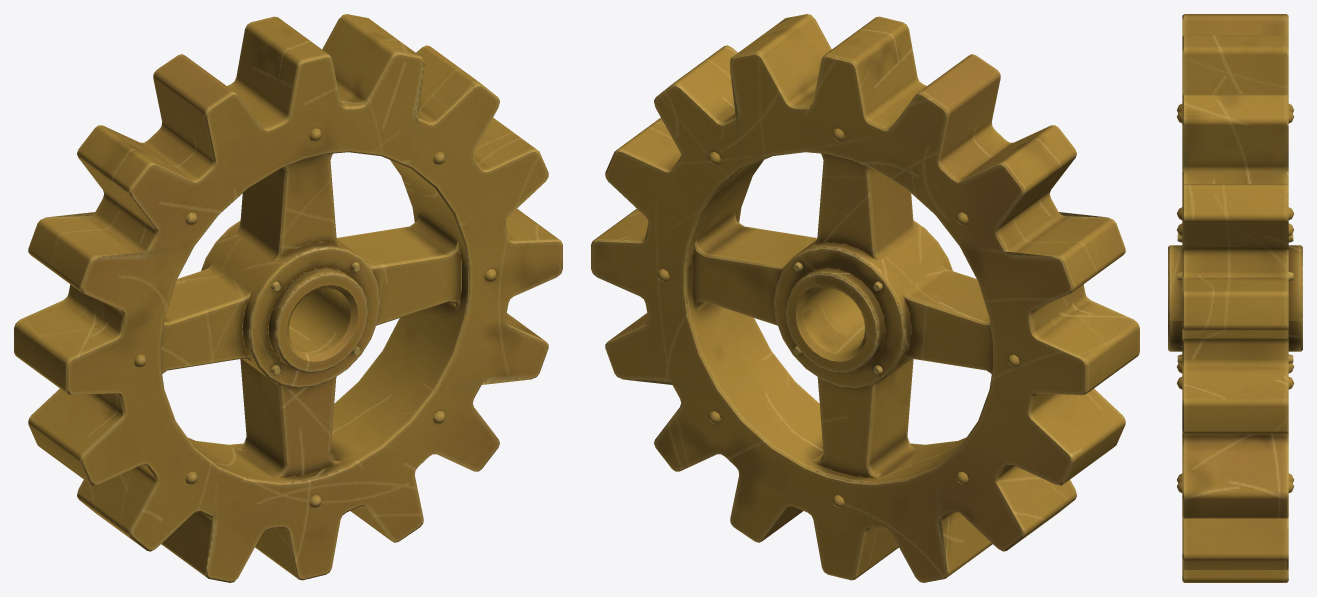
The model's file is gear_spur_16_brass.glb.
The picture shows the model from 3 angles, left to right: view 1: azimuth 30°, elevation 25°; view 2: azimuth 150°, elevation 25°; view 3: azimuth 270°, elevation 25°; orthographic projection.
Visible parts, largest first — view 1: GearSpur16_Brass; view 2: GearSpur16_Brass; view 3: GearSpur16_Brass.
Boxes of the visible parts, x1=… form: GearSpur16_Brass: x1=14, y1=14, x2=562, y2=582; GearSpur16_Brass: x1=591, y1=14, x2=1139, y2=582; GearSpur16_Brass: x1=1168, y1=14, x2=1302, y2=582.
Bounding box in the file's own units: 0.064 × 0.064 × 0.0152.
Materials: 1 (1 with a texture image).
